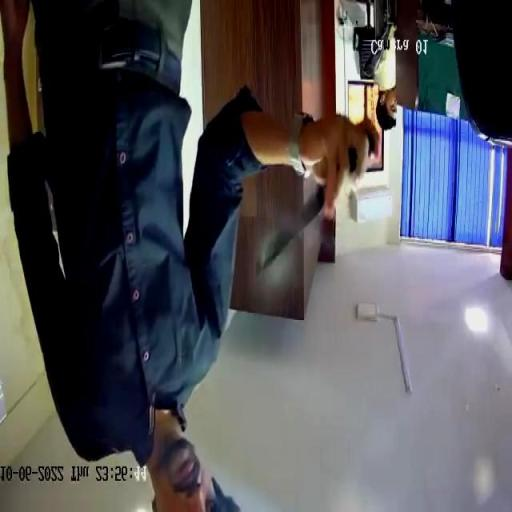knife: (254, 122, 380, 272)
